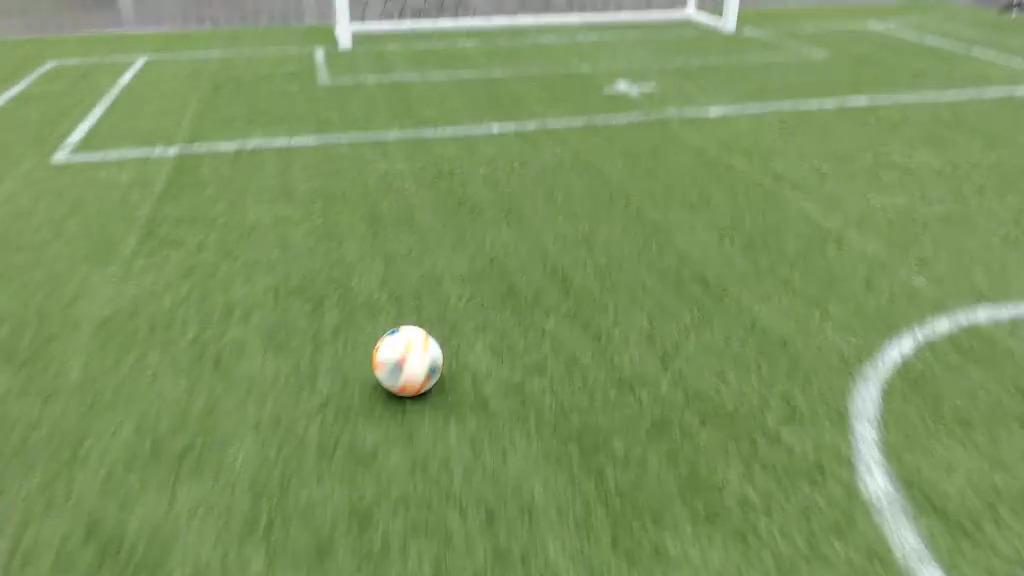ball: (373, 323, 443, 395)
